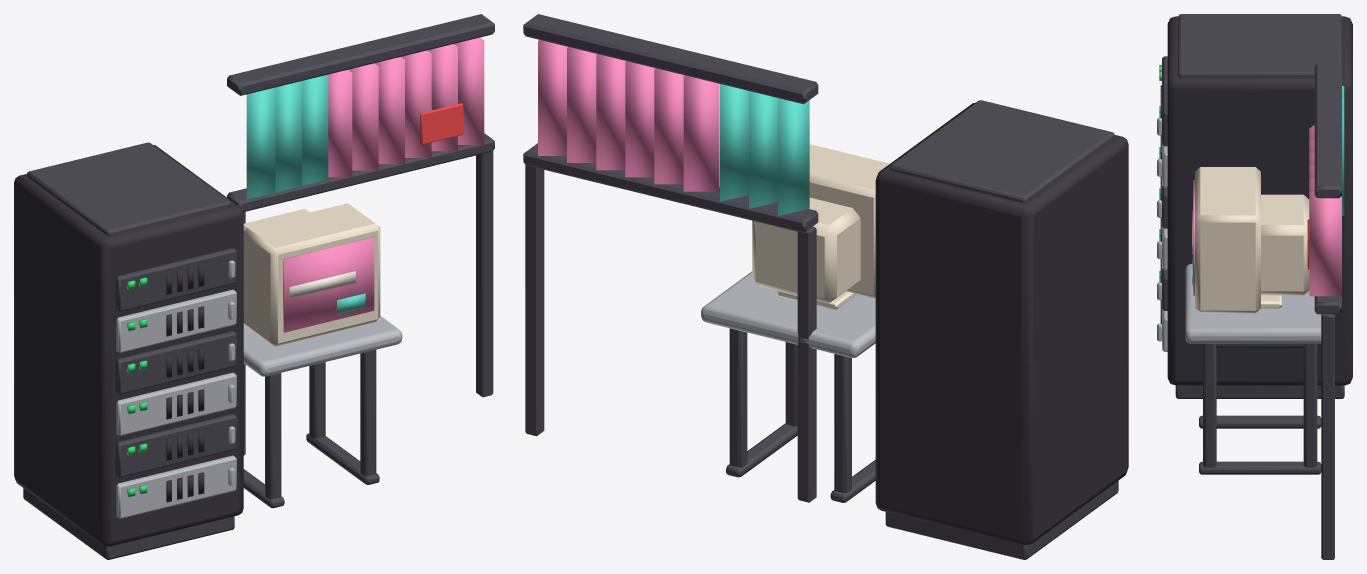
The model's file is dotcom_banner_l3.glb.
3 views of the same model, side by side, from view 1: azimuth 30°, elevation 25°; view 2: azimuth 150°, elevation 25°; view 3: azimuth 270°, elevation 25° (orthographic). The views are drawn at different scales.
Parts seen in each view (by area): view 1: dotcom_banner_l3; view 2: dotcom_banner_l3; view 3: dotcom_banner_l3.
Boxes of the visible parts, <box> form: dotcom_banner_l3: <box>14,14,494,559</box>; dotcom_banner_l3: <box>523,14,1128,559</box>; dotcom_banner_l3: <box>1157,14,1352,559</box>.
Size of the model in its own units: 1.96 by 1.51 by 0.718.
